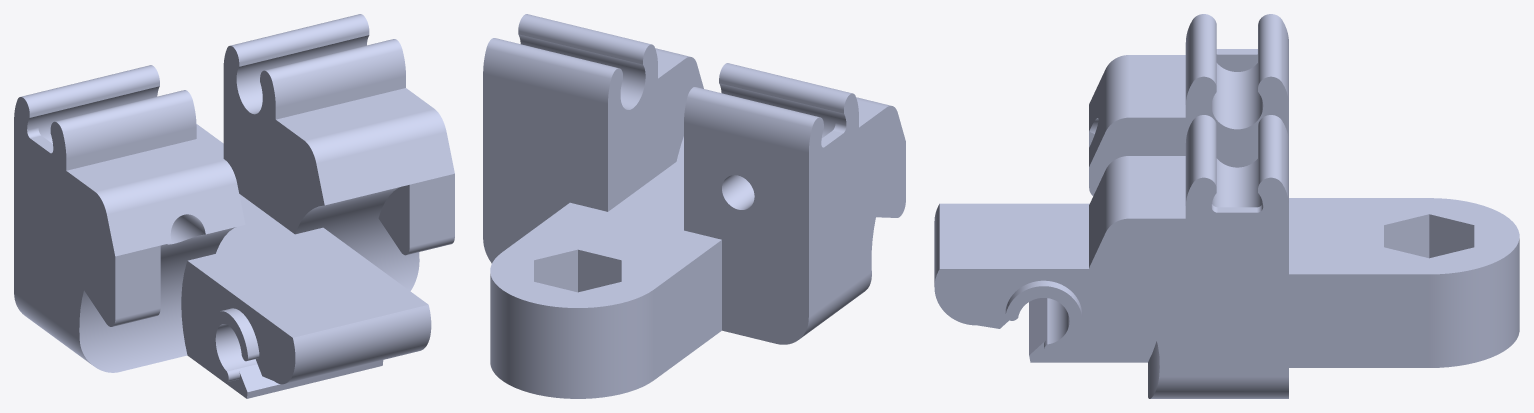
Rendered from FingerMCP.obj.
3 views of the same model, side by side, from view 1: azimuth 30°, elevation 25°; view 2: azimuth 150°, elevation 25°; view 3: azimuth 270°, elevation 25° (orthographic). The views are drawn at different scales.
Parts seen in each view (by area): view 1: mesh52, mesh22, mesh43, mesh16, mesh64, mesh38, mesh62, mesh1, mesh33, mesh3, mesh40, mesh5 (+24 smaller); view 2: mesh18, mesh28, mesh52, mesh20, mesh22, mesh43, mesh19, mesh29, mesh13, mesh6, mesh45, mesh47 (+11 smaller); view 3: mesh46, mesh52, mesh21, mesh20, mesh72, mesh12, mesh3, mesh40, mesh32, mesh23, mesh47, mesh73 (+15 smaller).
Boxes of the visible parts, bbox=[...] form: mesh52: bbox=[188, 124, 428, 337]; mesh22: bbox=[14, 97, 115, 339]; mesh43: bbox=[223, 45, 324, 233]; mesh16: bbox=[79, 227, 235, 372]; mesh64: bbox=[181, 261, 295, 398]; mesh38: bbox=[316, 132, 454, 205]; mesh62: bbox=[286, 307, 431, 383]; mesh1: bbox=[107, 183, 245, 256]; mesh33: bbox=[295, 187, 419, 290]; mesh3: bbox=[66, 139, 224, 191]; mesh40: bbox=[276, 88, 434, 140]; mesh5: bbox=[63, 101, 196, 158]; mesh18: bbox=[684, 122, 808, 344]; mesh28: bbox=[483, 73, 607, 263]; mesh52: bbox=[490, 136, 721, 307]; mesh20: bbox=[490, 274, 653, 398]; mesh22: bbox=[809, 93, 905, 317]; mesh43: bbox=[608, 44, 703, 211]; mesh19: bbox=[654, 240, 721, 379]; mesh29: bbox=[483, 48, 611, 103]; mesh13: bbox=[684, 97, 811, 152]; mesh6: bbox=[719, 63, 851, 110]; mesh45: bbox=[518, 14, 650, 60]; mesh47: bbox=[518, 34, 645, 109]; mesh46: bbox=[1089, 177, 1288, 376]; mesh52: bbox=[939, 198, 1519, 274]; mesh21: bbox=[1289, 274, 1429, 367]; mesh20: bbox=[1429, 238, 1519, 367]; mesh72: bbox=[934, 269, 1156, 362]; mesh12: bbox=[1089, 76, 1288, 173]; mesh3: bbox=[1129, 55, 1185, 117]; mesh40: bbox=[1129, 156, 1185, 218]; mesh32: bbox=[1150, 376, 1288, 398]; mesh23: bbox=[1211, 63, 1263, 129]; mesh47: bbox=[1212, 158, 1262, 207]; mesh73: bbox=[1005, 286, 1082, 355].
Bounding box in the file's own units: 0.03 × 0.02 × 0.0453.
